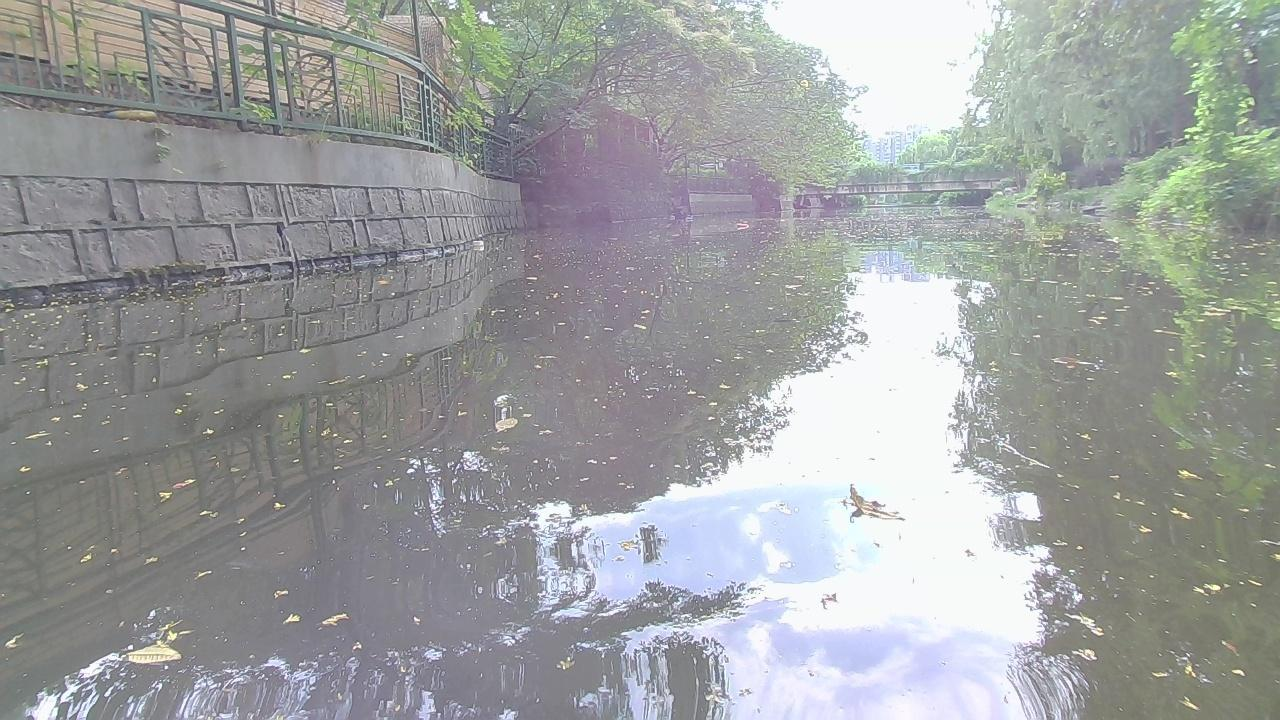bottle: (468, 239, 482, 251), (734, 221, 748, 231)
